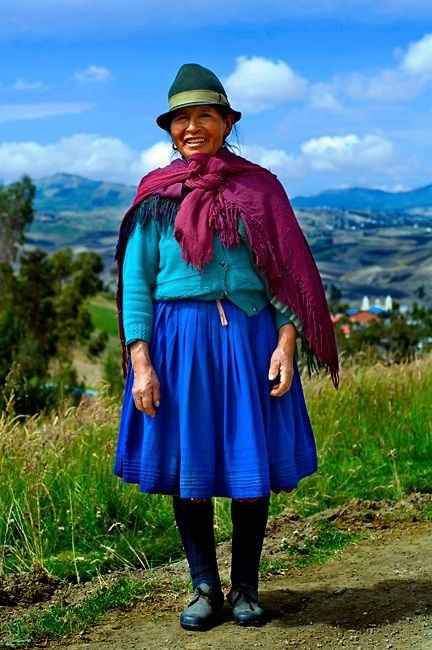face_no_mask: (165, 74, 233, 164)
